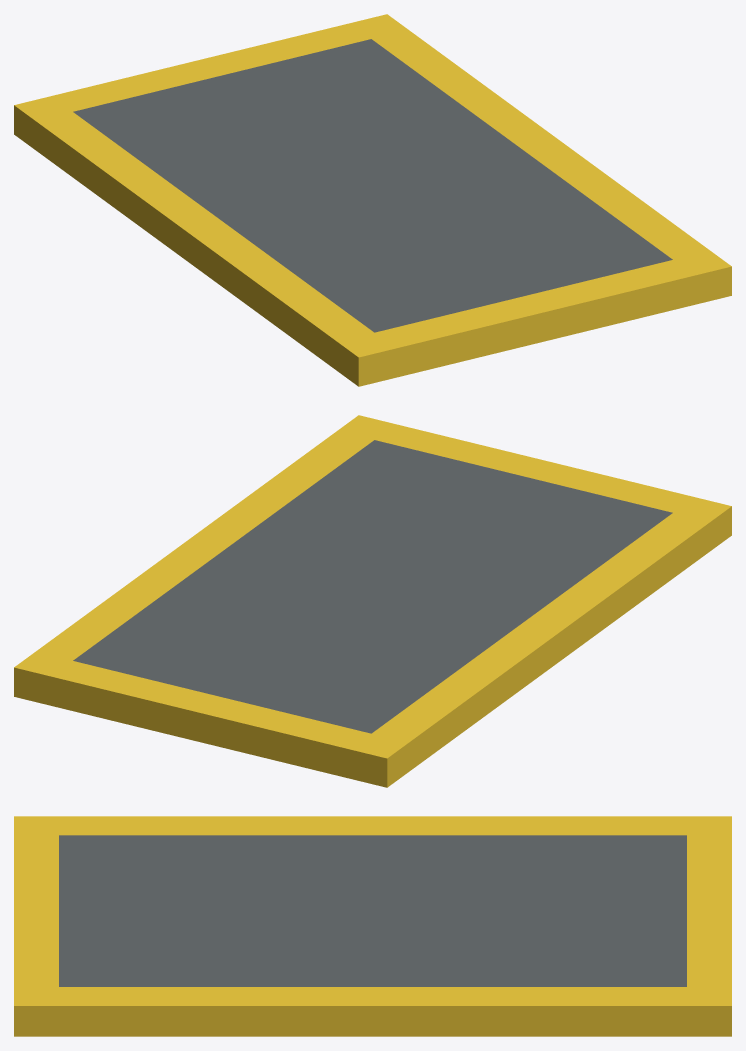
Rendered from Catwalk-Bridge.fbx.
3 views of the same model, one above another, from view 1: azimuth 30°, elevation 25°; view 2: azimuth 150°, elevation 25°; view 3: azimuth 270°, elevation 25° (orthographic). The views are drawn at different scales.
Visible parts, largest first — view 1: Catwalk-Bridge; view 2: Catwalk-Bridge; view 3: Catwalk-Bridge.
Part boxes in pixels (x1,y1,x2,y2): Catwalk-Bridge: [14, 14, 731, 386]; Catwalk-Bridge: [14, 415, 731, 787]; Catwalk-Bridge: [14, 816, 731, 1036].
Size of the model in its own units: 4 by 0.3 by 6.4.
Materials: 1 (1 with a texture image).
